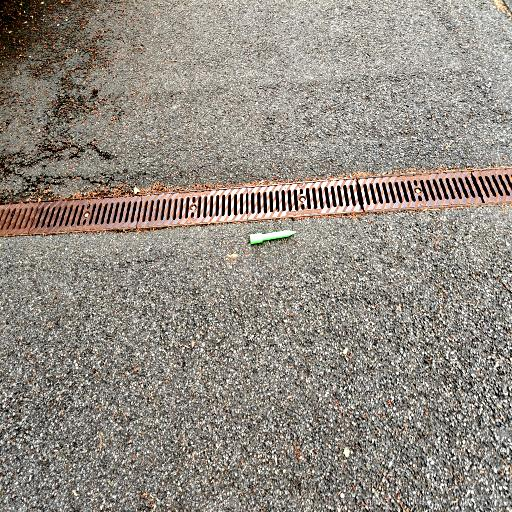Probe-Detection: (250, 230, 296, 244)
